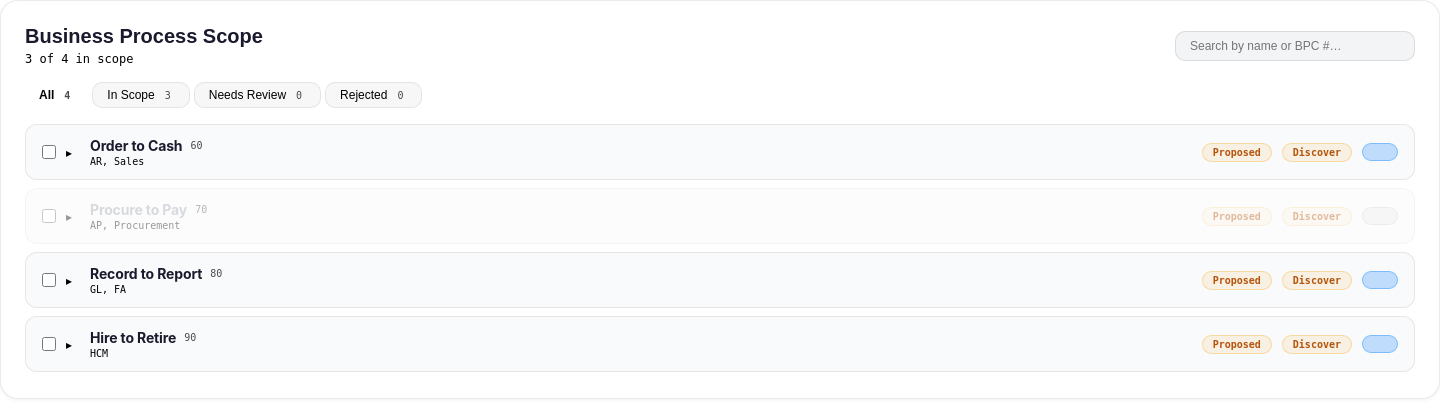
BusinessProcessPage Review UX › Slide-over detail panel › opens on process name click
What coordinates should you click on to do the following:
click the element with test id "process-name-e1"
I would click on:
 (146, 152)
Its box is [90, 137, 202, 167].
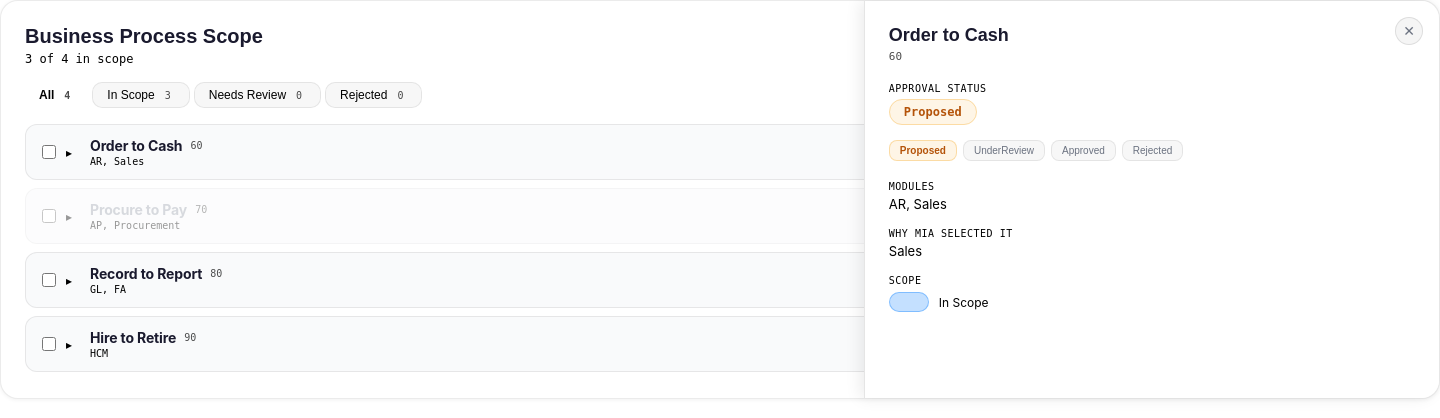
Expected: the element with test id "detail-panel" is shown, [864, 1, 1439, 398]
